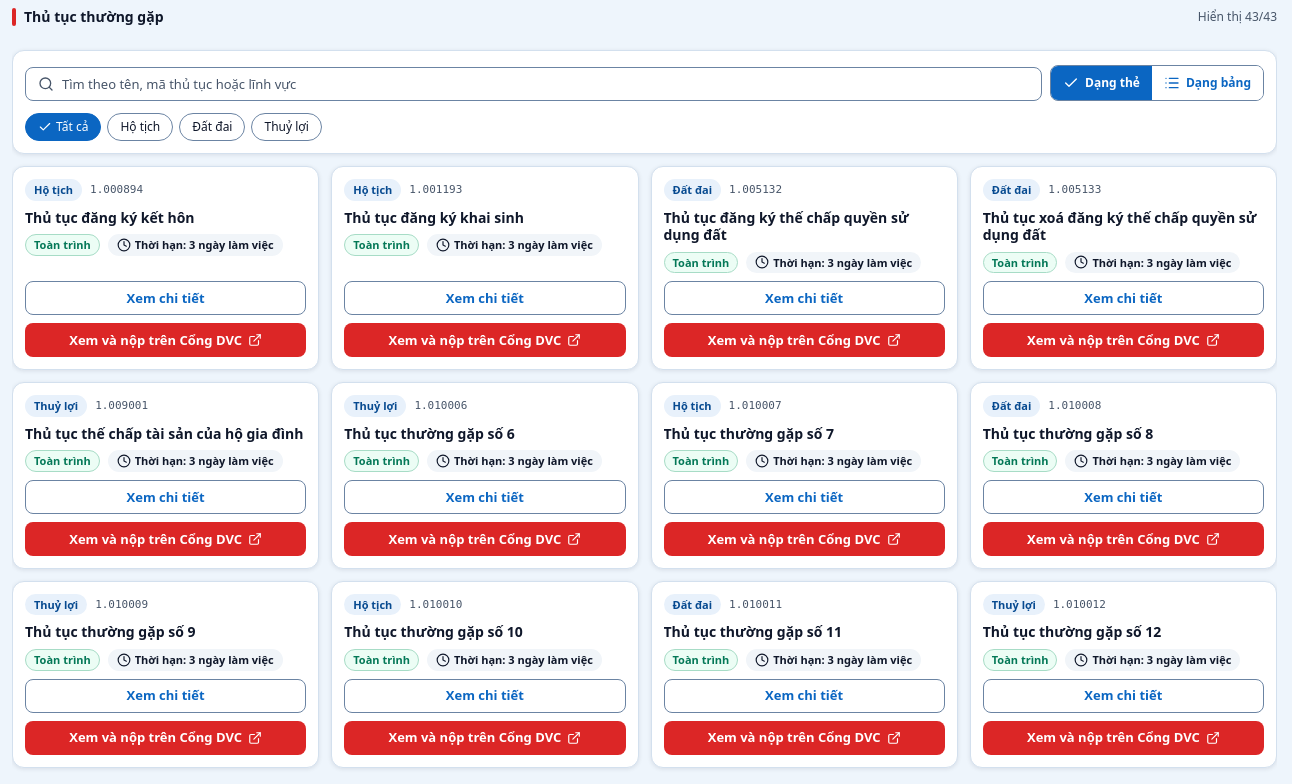
Test: KhoiThuongGap: tìm kiếm và chip › gõ "dang ky the chap" (không dấu) → có "Đăng ký thế chấp" (AC-1)
Expected: the heading "Thủ tục thường gặp" is shown, [24, 8, 164, 26]
Click the search field labelled "Tìm theo tên, mã thủ tục hoặc lĩnh vực" at [534, 84], box [26, 68, 1041, 100]
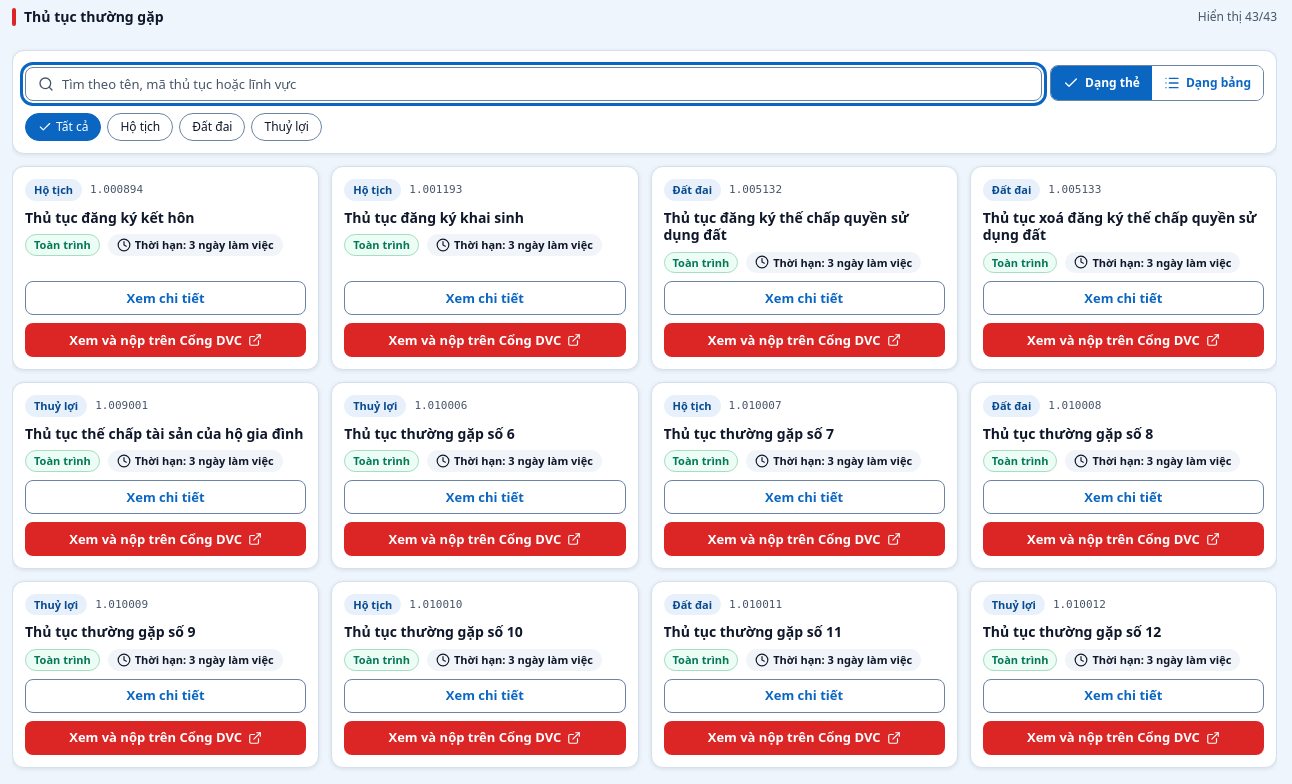
Type keys "dang ky the chap"
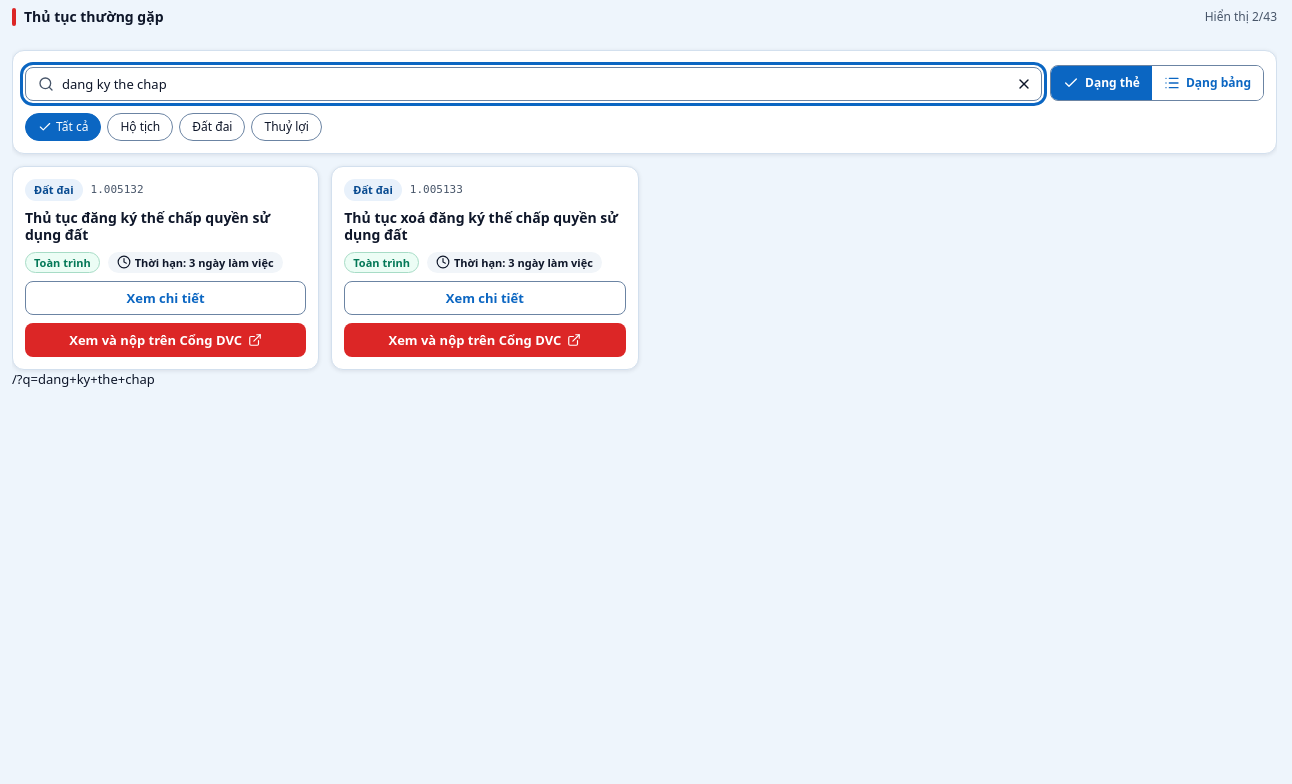
Expected: the heading "Thủ tục đăng ký thế chấp quyền sử dụng đất" is shown, [25, 209, 306, 244]
Expected: the text "Hiển thị 2/43" is shown, [1205, 9, 1277, 25]
